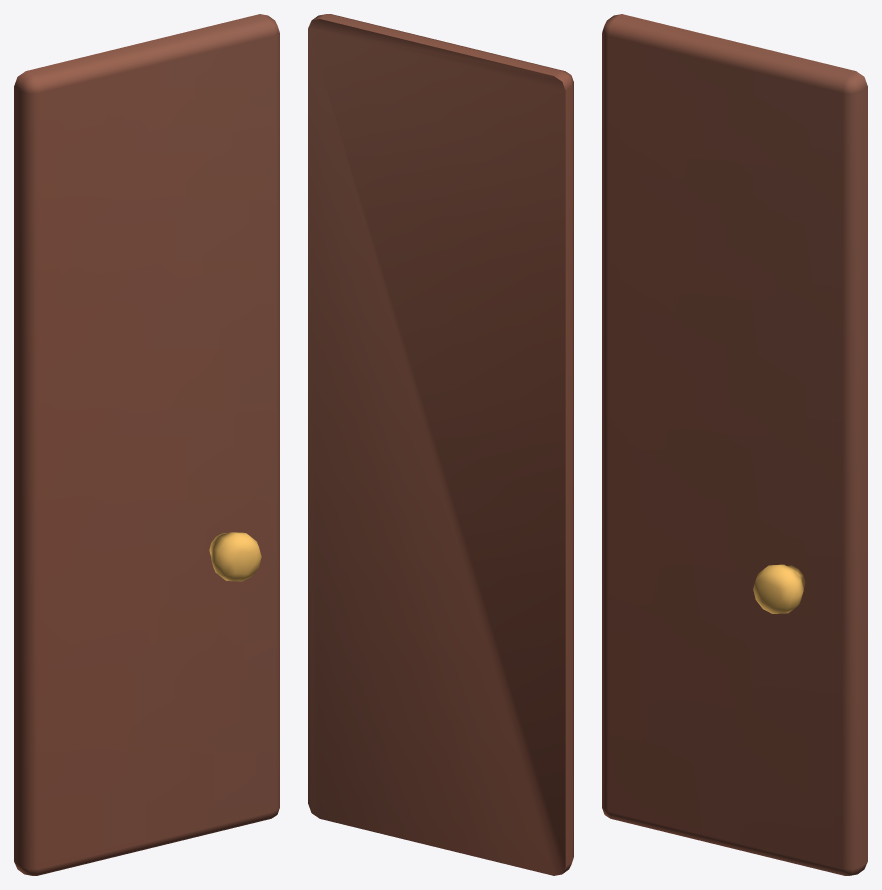
Rendered from Closet_08_Door_01.fbx.
The picture shows the model from 3 angles, left to right: view 1: azimuth 30°, elevation 25°; view 2: azimuth 150°, elevation 25°; view 3: azimuth 330°, elevation 25°; orthographic projection.
Parts seen in each view (by area): view 1: Closet_08_Door_01; view 2: Closet_08_Door_01; view 3: Closet_08_Door_01.
Boxes of the visible parts, x1,y1,x2,y2 form: Closet_08_Door_01: [14, 14, 279, 875]; Closet_08_Door_01: [308, 14, 573, 875]; Closet_08_Door_01: [602, 14, 867, 875].
Bounding box in the file's own units: 33 × 7.98 × 97.9.
